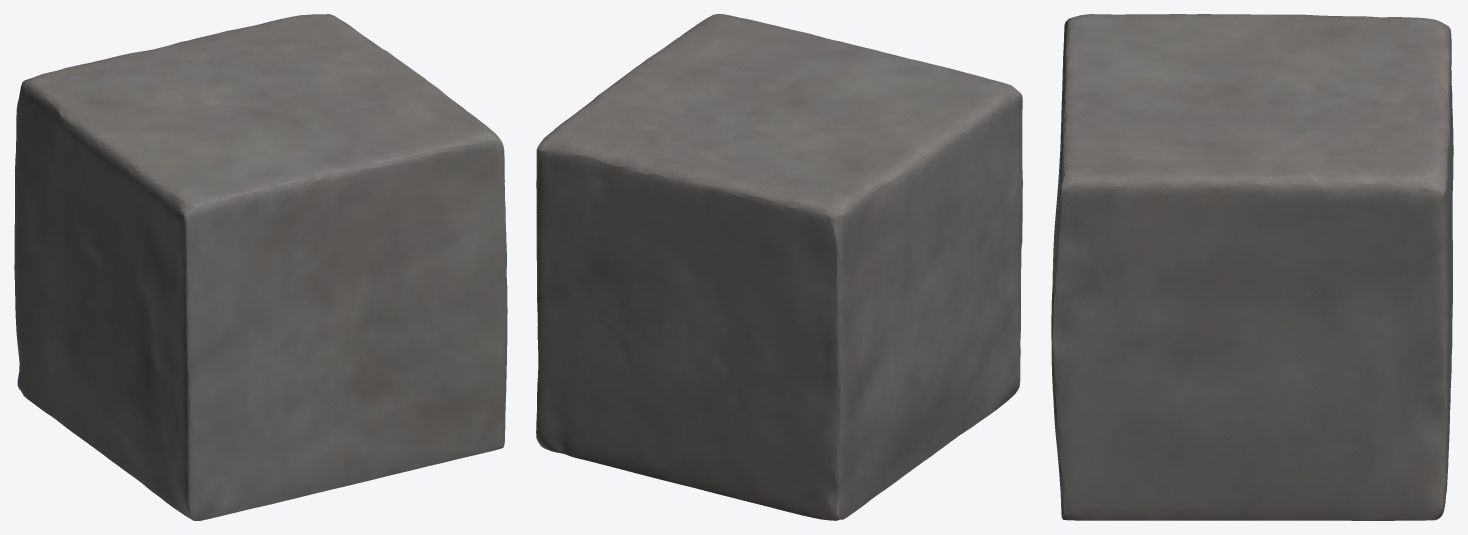
3 views of the same model, side by side, from view 1: azimuth 30°, elevation 25°; view 2: azimuth 150°, elevation 25°; view 3: azimuth 270°, elevation 25° (orthographic). The views are drawn at different scales.
Visible parts, largest first — view 1: Mesh; view 2: Mesh; view 3: Mesh.
Part boxes in pixels (box(x1,y1,x2,y2)): Mesh: box(14, 14, 507, 520); Mesh: box(536, 14, 1022, 520); Mesh: box(1051, 14, 1453, 520).
Bounding box in the file's own units: 0.9662 × 0.9141 × 0.9686.
1 material, 1 textured.
